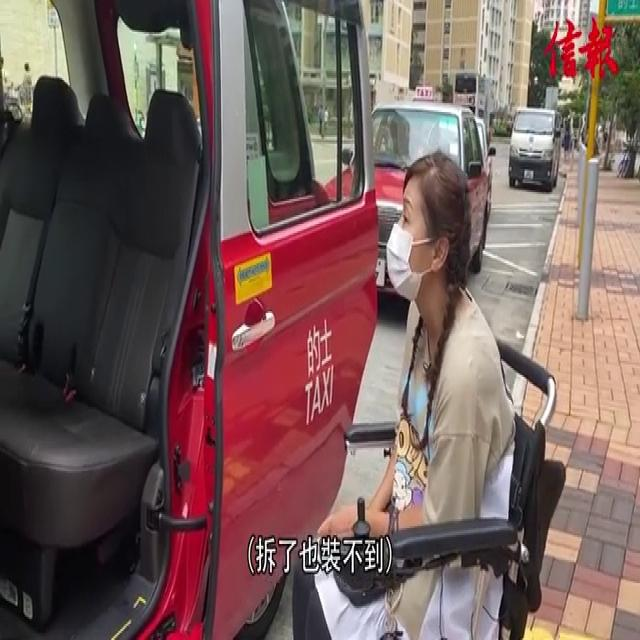wheelchairs: (319, 323, 566, 640)
